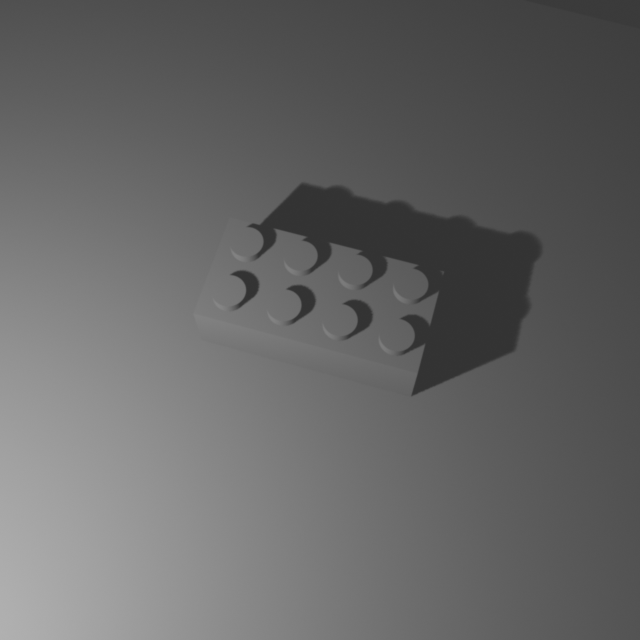lego_2x4: (192, 212, 446, 397)
